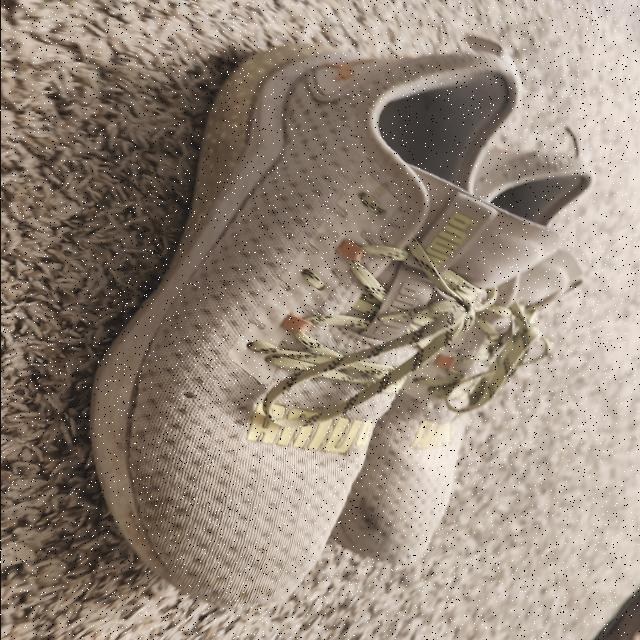white shoes: (98, 50, 576, 598)
